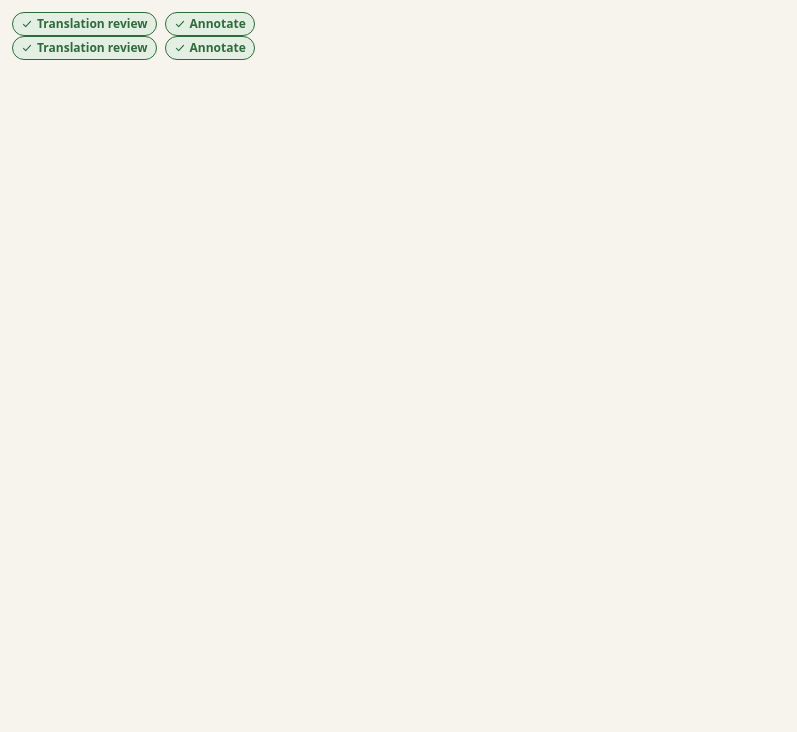
Scenario: sends a queued second save after a 409 confirmation and the confirmed save with the latest revision
Click the button with aria-label "Annotate, case-0101 fr" at (210, 24), box 164,12 -> 255,36
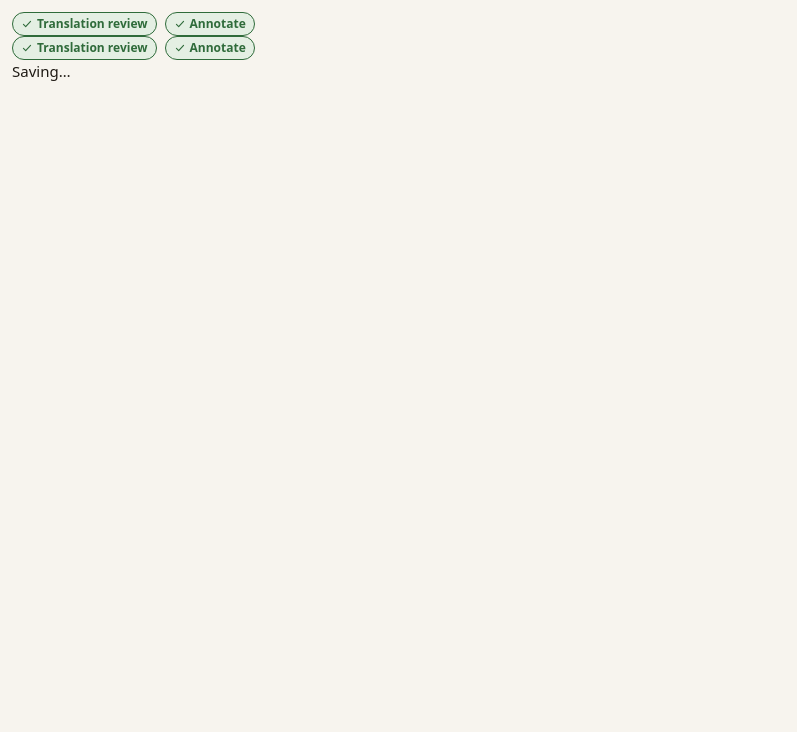
Click the button with aria-label "Annotate, case-0101 de" at (210, 48), box 164,36 -> 255,60
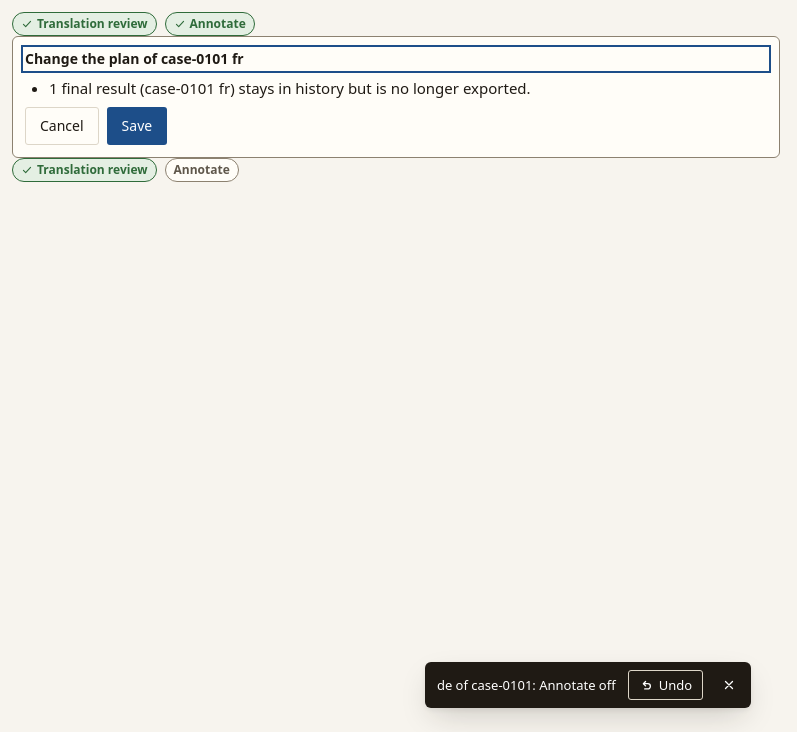
Result: the text "de of case-0101: Annotate off" is shown at 437,676 -> 616,694
Click the button "Save" at (137, 126), box 107,107 -> 167,145
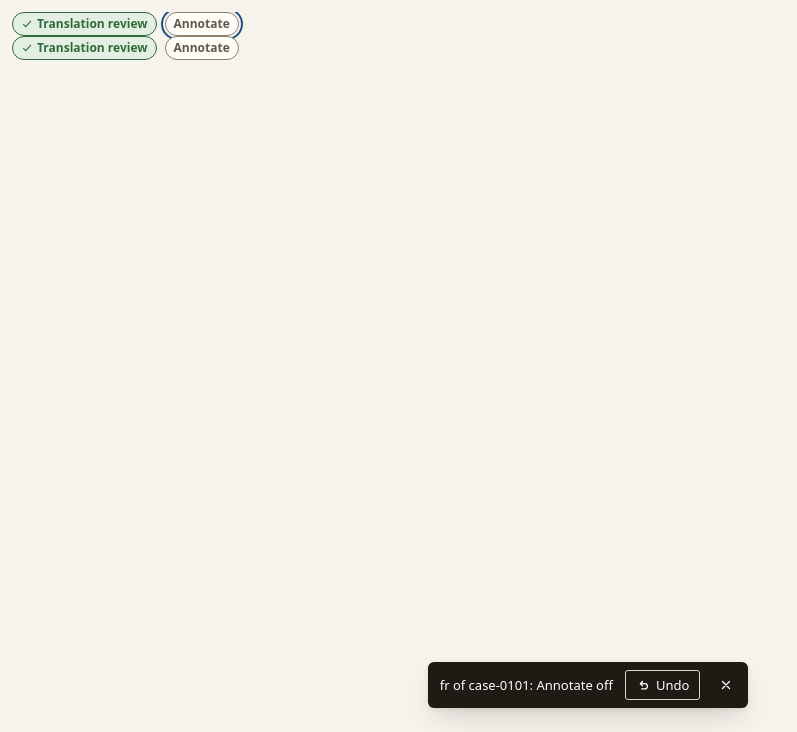
Result: the text "fr of case-0101: Annotate off" is shown at 440,676 -> 613,694
